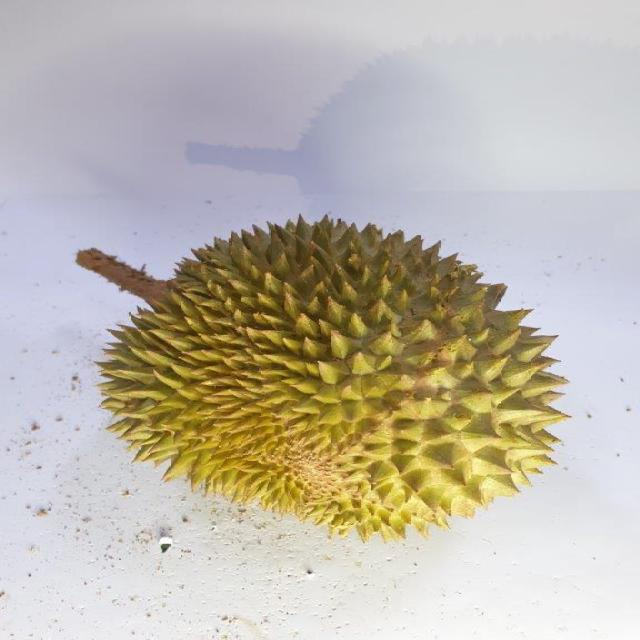mature: (95, 213, 570, 548)
